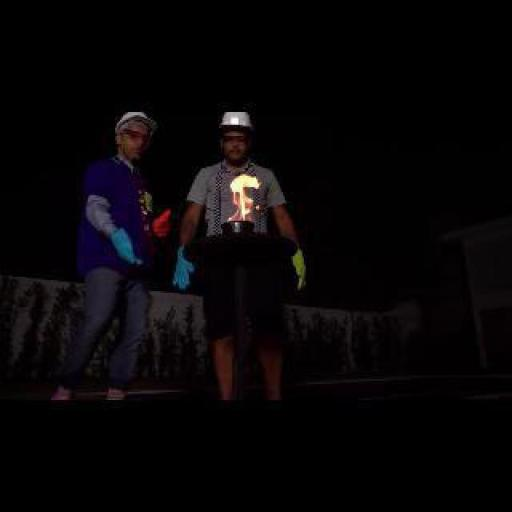smoke: (218, 171, 270, 219)
